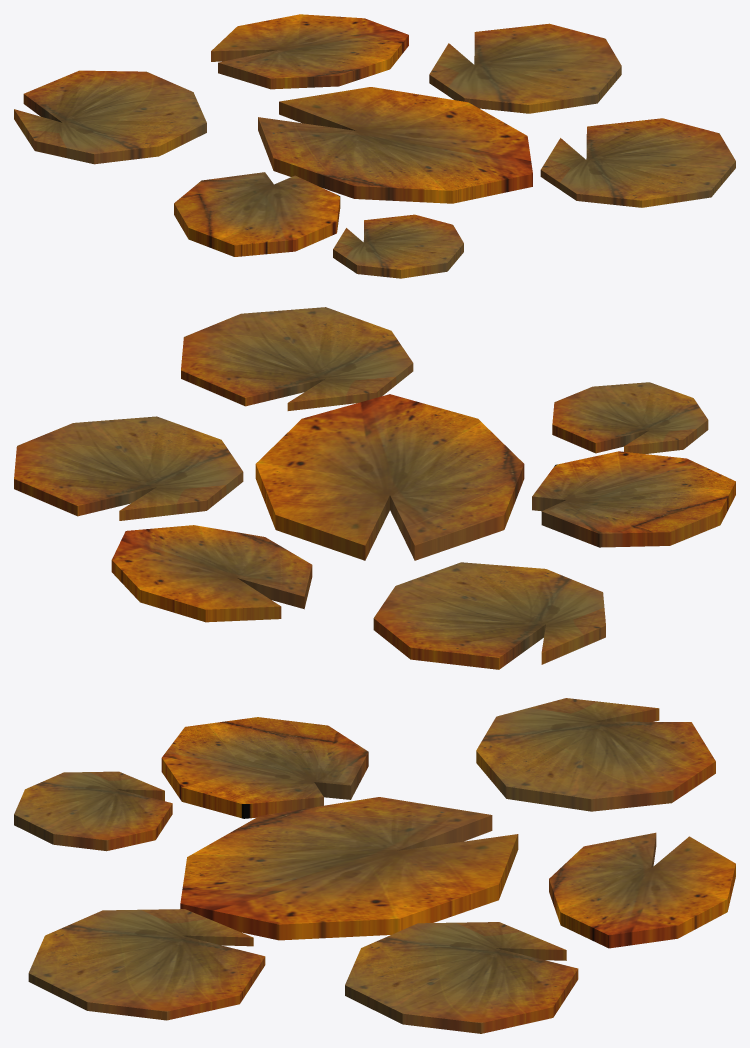
The model's file is lilly_pads3.fbx.
3 renders of one model, top to bottom at view 1: azimuth 30°, elevation 25°; view 2: azimuth 150°, elevation 25°; view 3: azimuth 270°, elevation 25°, orthographic. The views are drawn at different scales.
Visible parts, largest first — view 1: polySurface11; view 2: polySurface11; view 3: polySurface11.
Boxes of the visible parts, left/top/right/bottom form: polySurface11: left=14, top=14, right=735, bottom=278; polySurface11: left=14, top=307, right=735, bottom=669; polySurface11: left=14, top=698, right=735, bottom=1033.
Bounding box in the file's own units: 95.91 × 2.4 × 91.09.
1 material, 1 textured.
